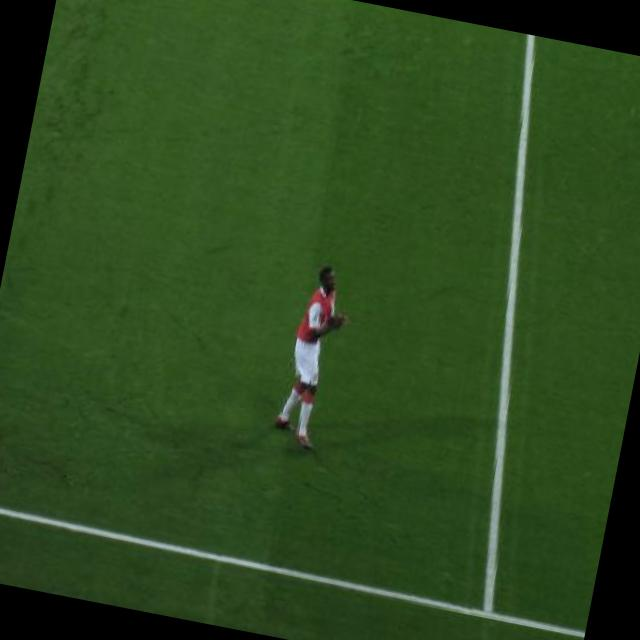Person: (266, 254, 353, 452)
